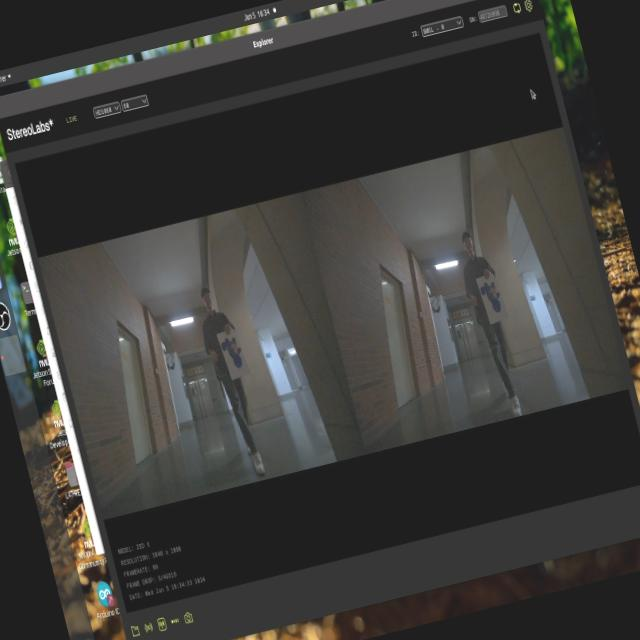blue: (474, 270, 512, 324), (214, 327, 250, 375)
